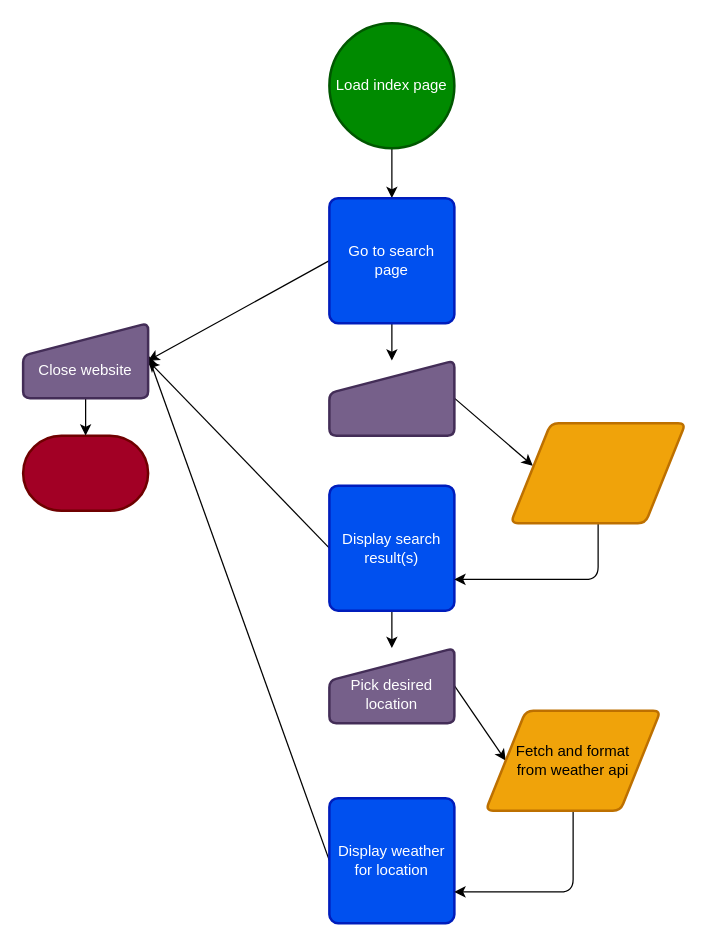
The diagram is 708 pixels wide and 945 high, and some of its shapes have lost their labels. The shapes that lost their labels are listed below. From the top down, each one's centre as x and y in pixels, then its label:
[391,397]: Enter search query
[85,472]: Exit website
[597,472]: Fetch and format from location api
